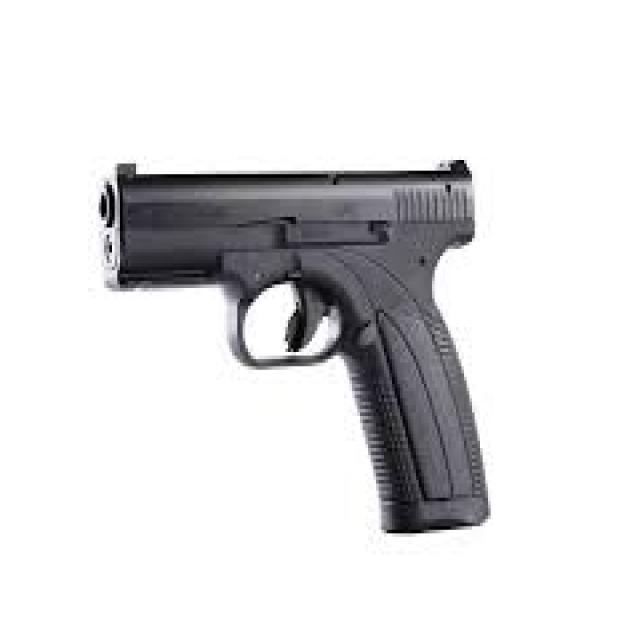Gun: (95, 142, 531, 544)
